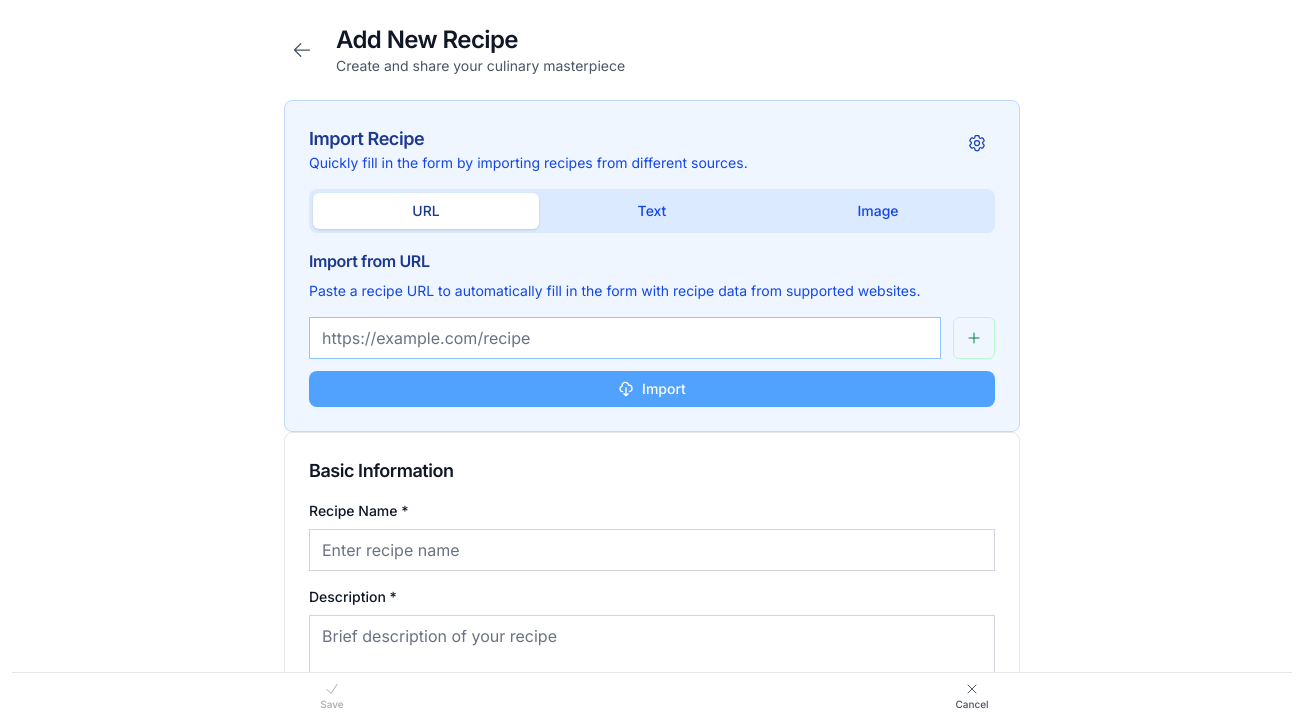
Test: RecipeFormPage - URL Import Feature › URL Import Functionality › should handle API errors gracefully
The width and height of the screenshot is (1304, 720).
Type "https://invalid-url.com/recipe" into the field with placeholder "https://example.com/recipe" at (625, 338), box [309,317,941,359]
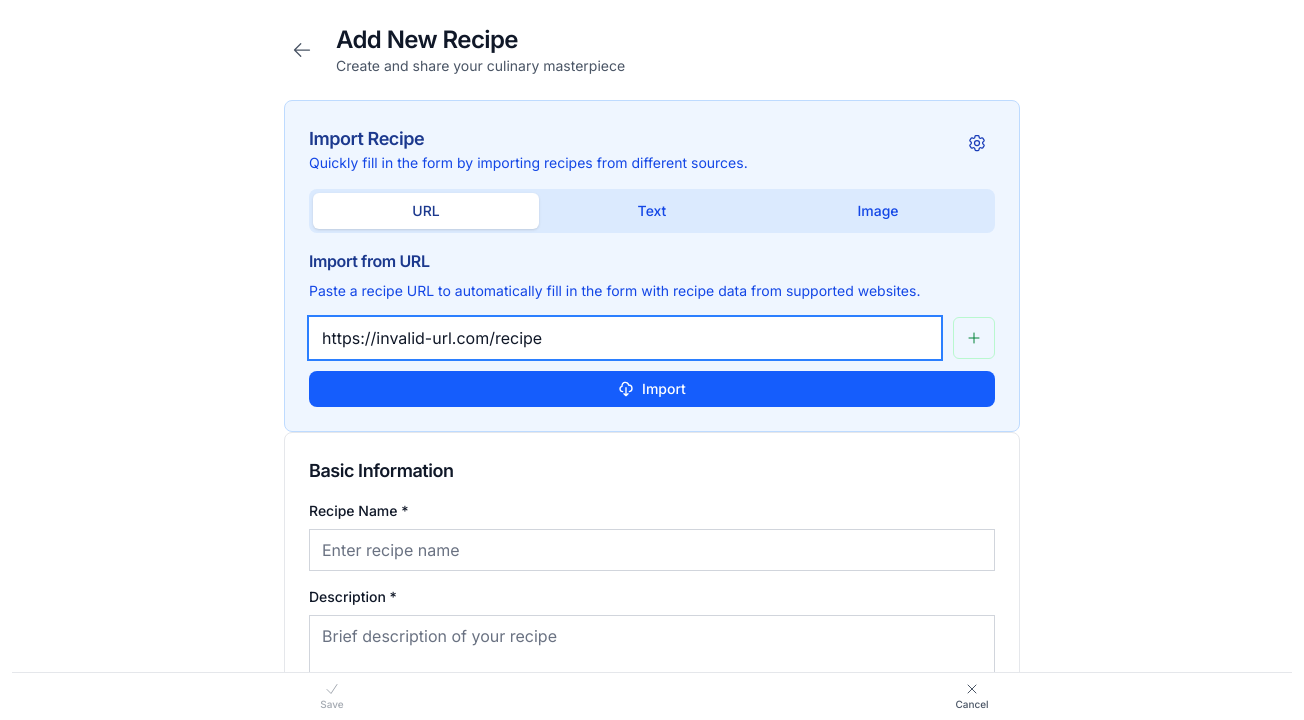
Click the button "Import" at (652, 389), box [309,371,995,407]
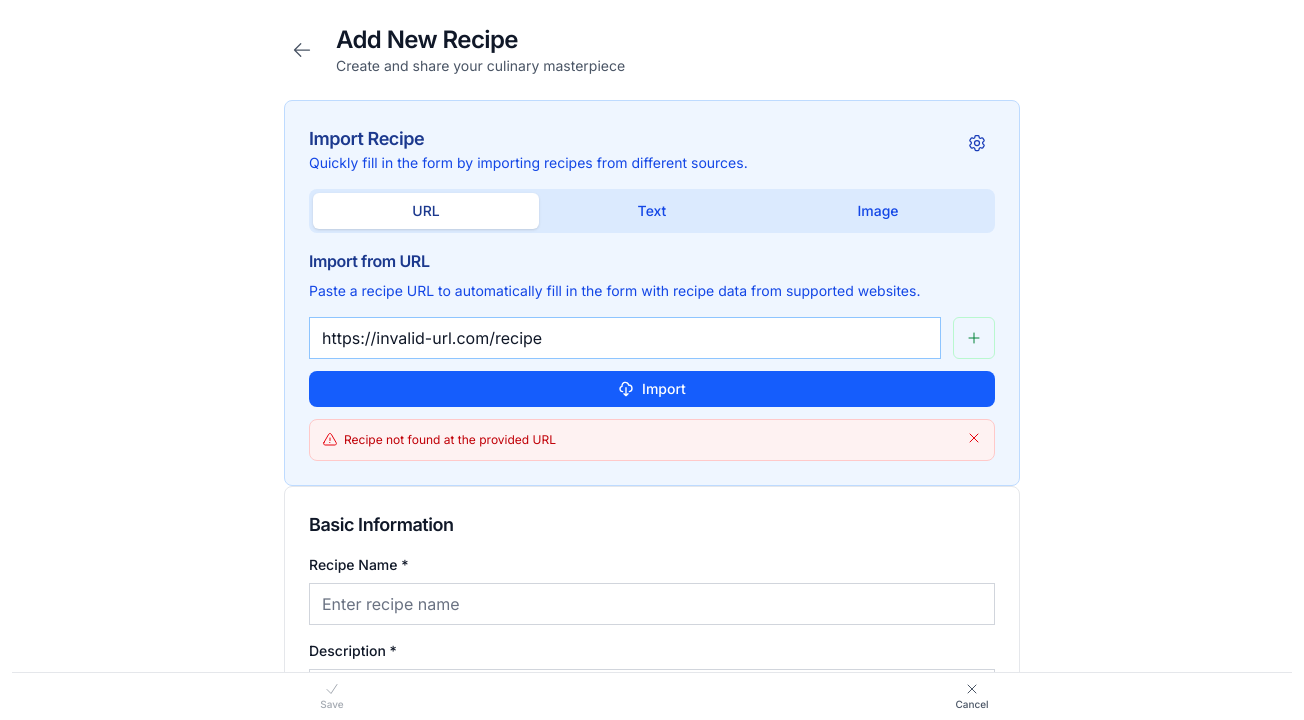
Expected: the text "Recipe not found at the provided URL" is shown, [344,432,556,447]
